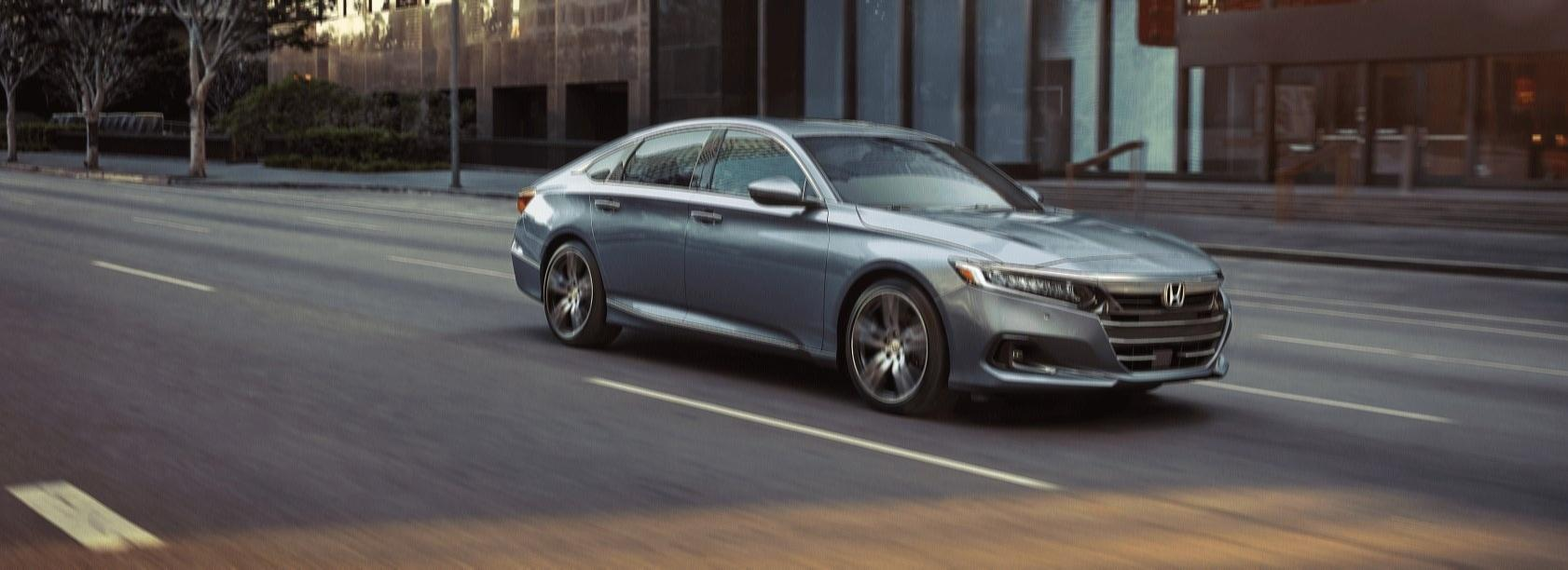Car hood: (862, 205, 1222, 280)
Driver-s door - -F-R-: (674, 104, 829, 366)
Fender - -F-R-: (797, 194, 956, 360)
Fender - -R-R-: (525, 141, 614, 279)
Front bumper: (931, 254, 1237, 403)
Headlight - -R-: (952, 250, 1106, 314)
Passenger-s door - -R-R-: (582, 107, 727, 337)
Rear bumper: (504, 217, 553, 303)
Rear light - -R-: (512, 185, 545, 224)
Side bumper - -R-: (598, 270, 832, 377)
Side mirror - -R-: (745, 173, 832, 222)
